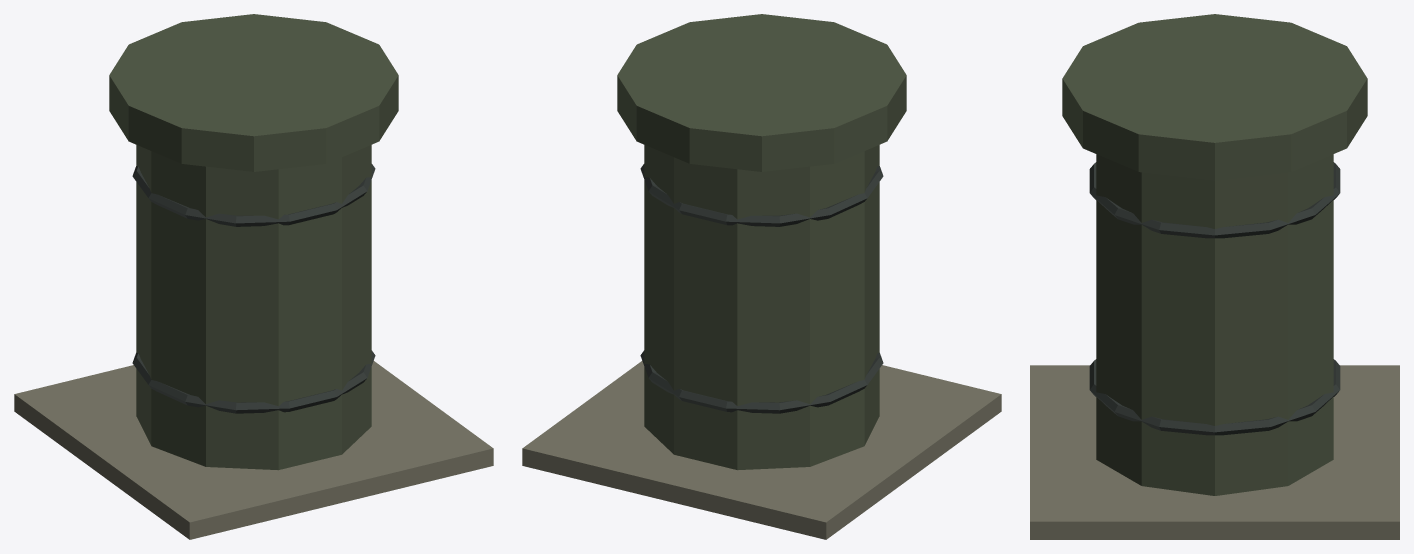
File: Bastion_GunTower_Base.obj
The picture shows the model from 3 angles, left to right: view 1: azimuth 30°, elevation 25°; view 2: azimuth 150°, elevation 25°; view 3: azimuth 270°, elevation 25°; orthographic projection. The views are drawn at different scales.
Parts seen in each view (by area): view 1: Bastion_GunTower_Base; view 2: Bastion_GunTower_Base; view 3: Bastion_GunTower_Base.
Boxes of the visible parts, x1,y1,x2,y2 form: Bastion_GunTower_Base: [14, 14, 493, 539]; Bastion_GunTower_Base: [522, 14, 1001, 539]; Bastion_GunTower_Base: [1030, 14, 1399, 539].
Size of the model in its own units: 4 by 4.57 by 4.
1 material, 1 textured.
